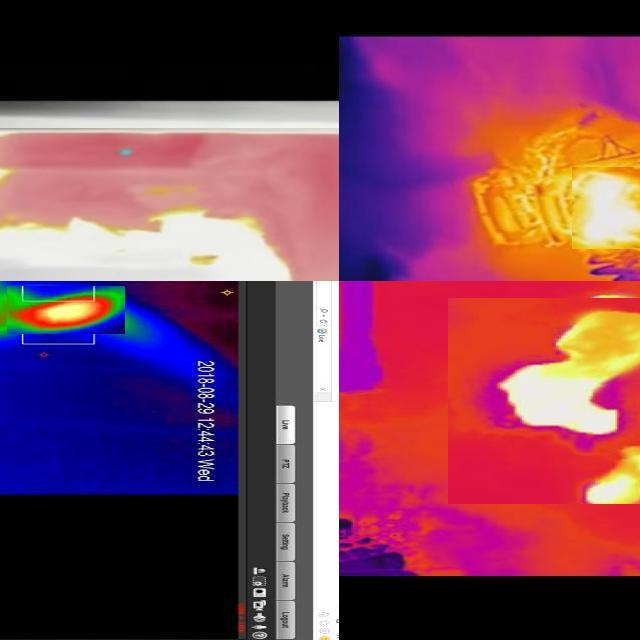fire: (1, 129, 340, 282), (448, 299, 640, 505), (7, 287, 125, 335), (572, 168, 640, 250)
